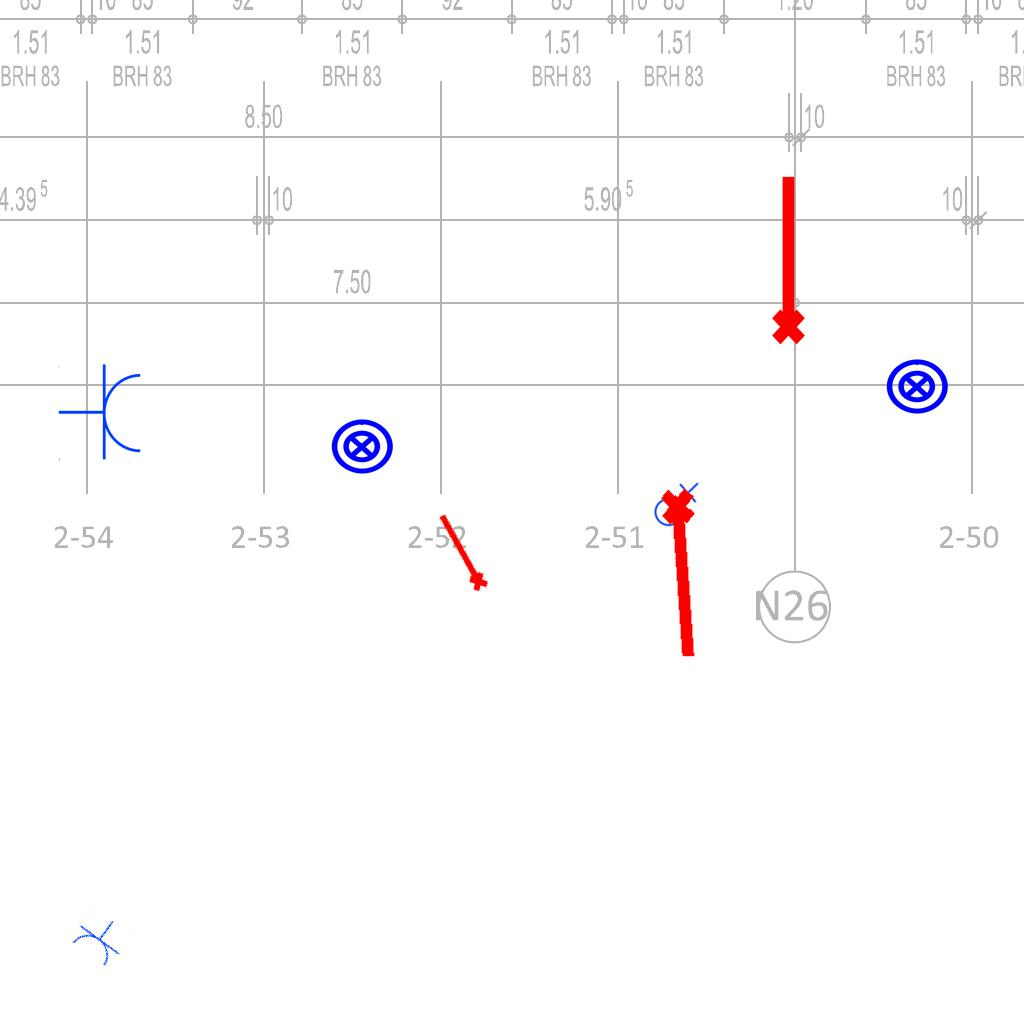ASR_Ansaugoeffnung: (655, 484, 715, 664), (763, 171, 809, 347), (429, 508, 493, 597)
Elektroanschluss_allgemein_230V_Geraeteanschlussdose_230V: (650, 480, 699, 527)
Schukosteckdose_einfach: (58, 363, 145, 463), (67, 906, 133, 971)
Taster_beleuchtet: (329, 414, 395, 480), (884, 354, 950, 420)
